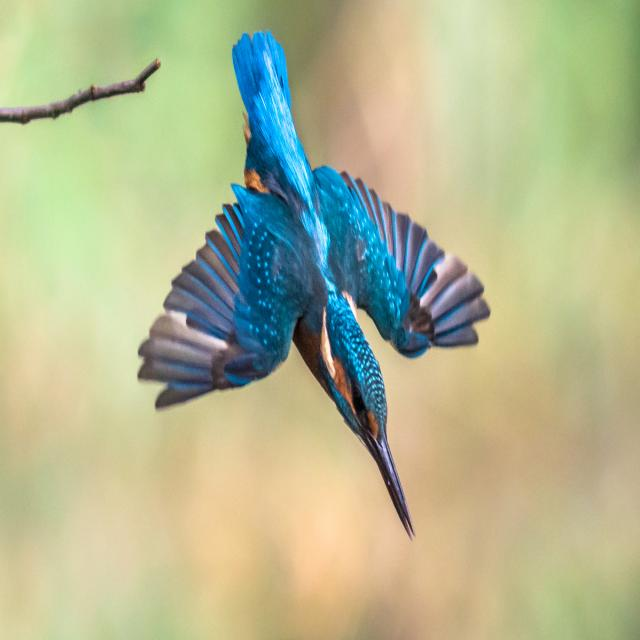kingfisher: (125, 23, 495, 556)
